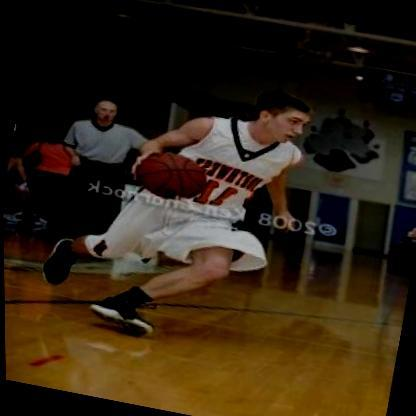basketball: (130, 142, 211, 205)
